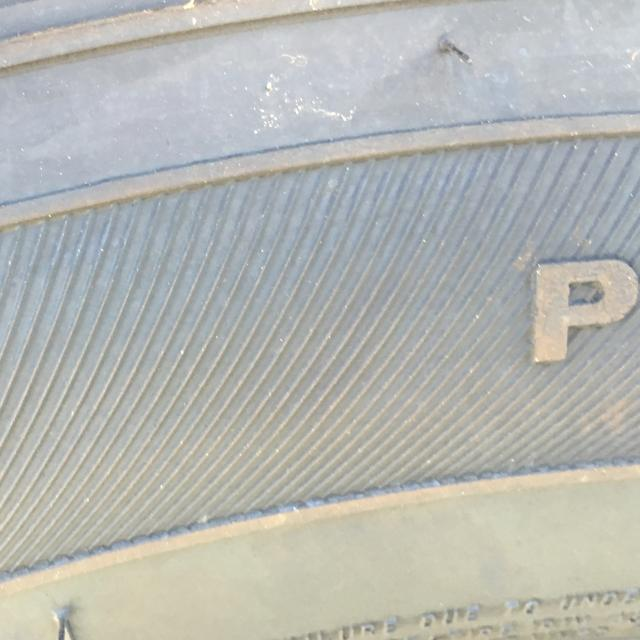Cracks: (430, 38, 478, 65)
